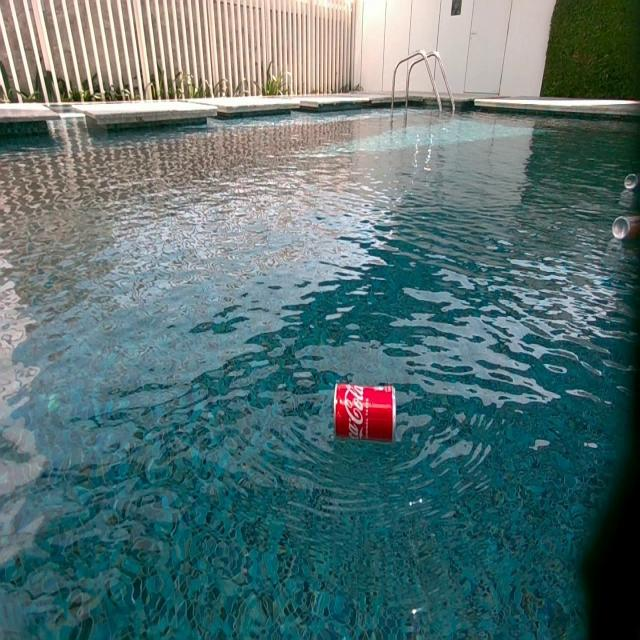Cans: (334, 382, 394, 446), (614, 216, 640, 242), (625, 173, 640, 191)
